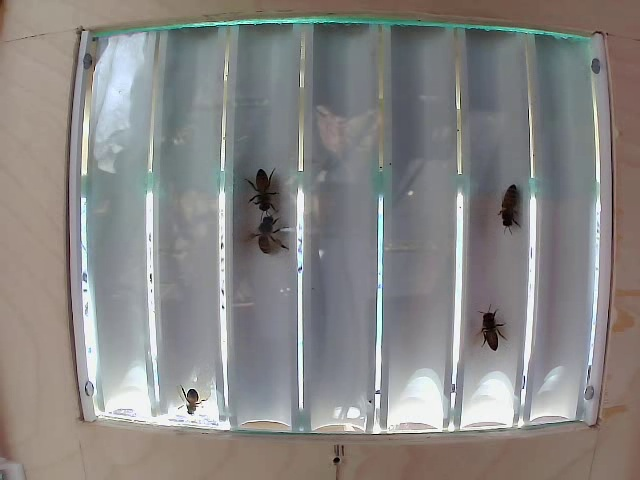bee: (240, 154, 292, 207), (472, 292, 514, 345), (246, 201, 286, 256), (491, 175, 521, 227)
